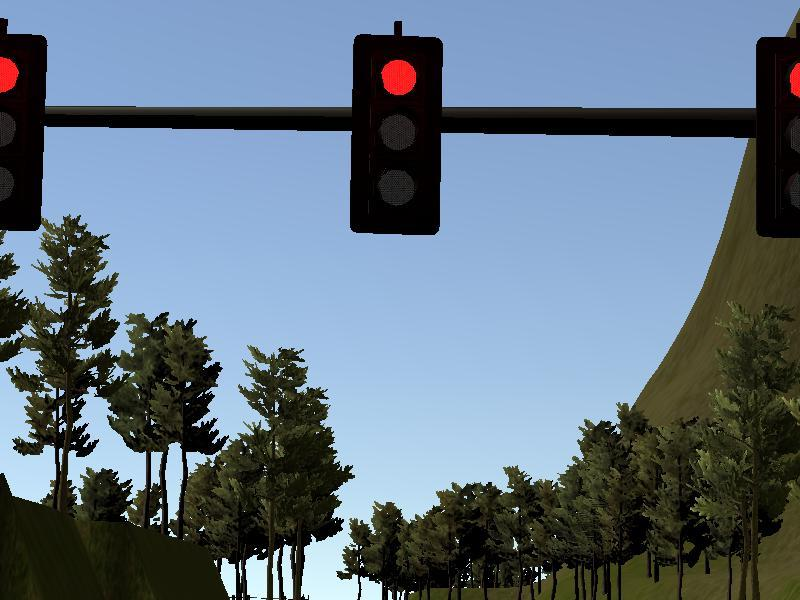Red: (355, 37, 439, 233), (758, 39, 800, 236), (1, 35, 42, 230)
